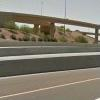Bridge: (2, 3, 97, 38)
